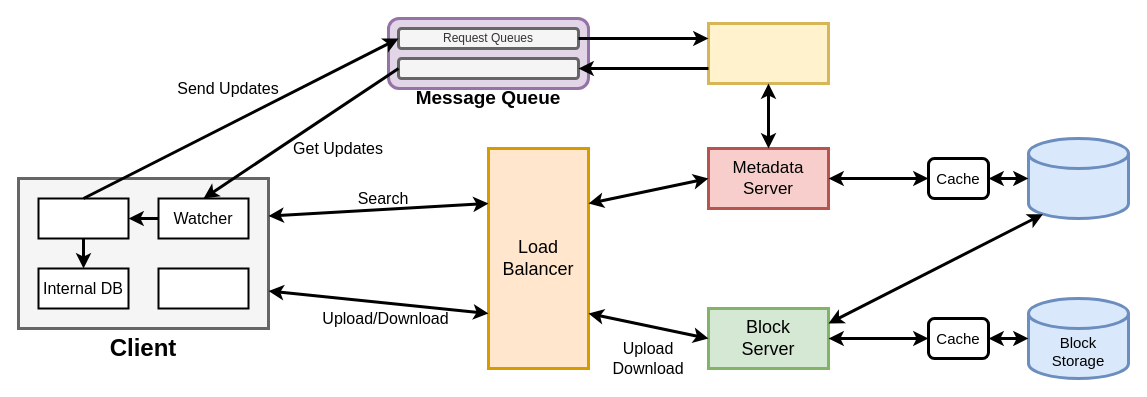
The diagram is 1147 pixels wide and 397 high, and some of its shapes have lost their labels. The shapes that lost their labels are listed below. From the top down, each one's box as (x1, y1, x2, y2) in pixels, then its label:
(396, 56, 580, 80): Response Queues
(706, 22, 830, 84): Synchronization Server
(1026, 136, 1130, 220): Metadata Database
(37, 197, 129, 239): Indexer
(157, 267, 249, 309): Chunker
